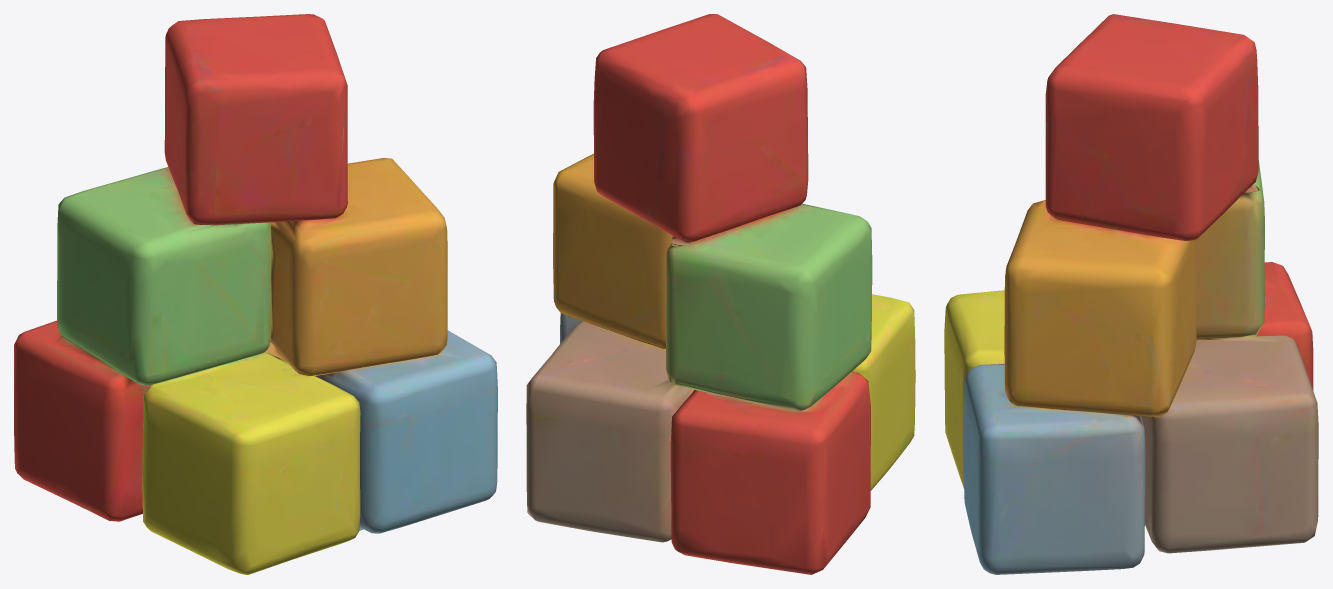
File: toy_blocks.glb
3 views of the same model, side by side, from view 1: azimuth 30°, elevation 25°; view 2: azimuth 150°, elevation 25°; view 3: azimuth 270°, elevation 25° (orthographic). The views are drawn at different scales.
Visible parts, largest first — view 1: tripo_node_95895a5c-2d95-42d2-82a7-f3f968ce8a78; view 2: tripo_node_95895a5c-2d95-42d2-82a7-f3f968ce8a78; view 3: tripo_node_95895a5c-2d95-42d2-82a7-f3f968ce8a78.
Part boxes in pixels (bbox=[...]): tripo_node_95895a5c-2d95-42d2-82a7-f3f968ce8a78: bbox=[14, 14, 497, 574]; tripo_node_95895a5c-2d95-42d2-82a7-f3f968ce8a78: bbox=[526, 14, 915, 574]; tripo_node_95895a5c-2d95-42d2-82a7-f3f968ce8a78: bbox=[944, 14, 1318, 574].
Bounding box in the file's own units: 0.4154 × 0.5 × 0.378.
1 material, 1 textured.
